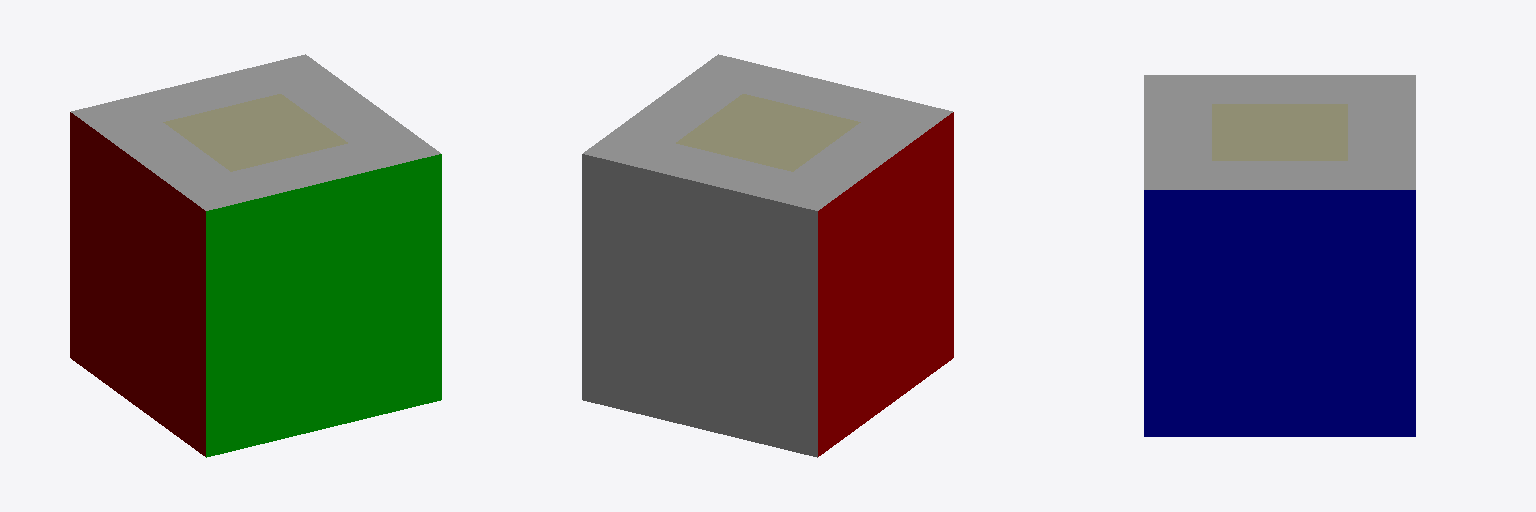
File: cube_quads.obj
The picture shows the model from 3 angles: view 1: azimuth 30°, elevation 25°; view 2: azimuth 150°, elevation 25°; view 3: azimuth 270°, elevation 25°; orthographic projection.
Visible parts, largest first — view 1: Cube; view 2: Cube; view 3: Cube.
Boxes of the visible parts, x1,y1,x2,y2 form: Cube: [70, 54, 441, 457]; Cube: [582, 54, 953, 457]; Cube: [1144, 75, 1415, 436].
Size of the model in its own units: 2 by 2 by 2.